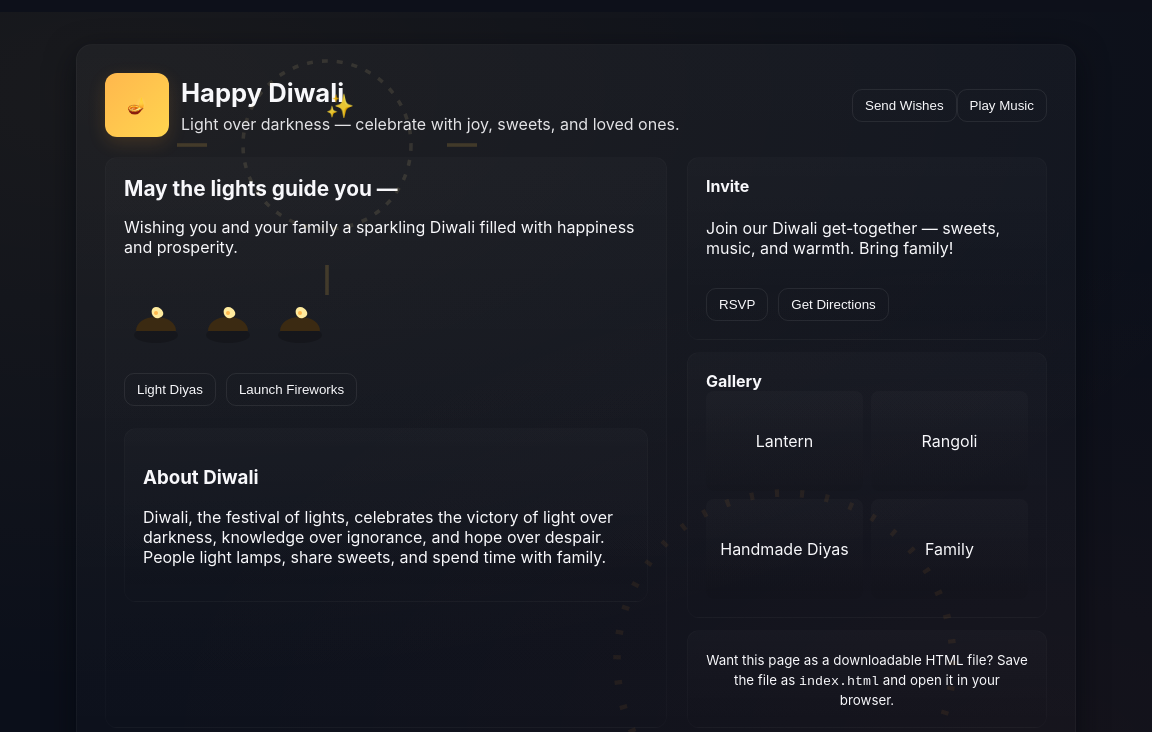
🎇 DiwaliPage Component Tests › shows "No music file found" toast when no src is available
Step 1. Click the button "Play Music" → [1002, 105], box x1=957 y1=88 x2=1047 y2=122
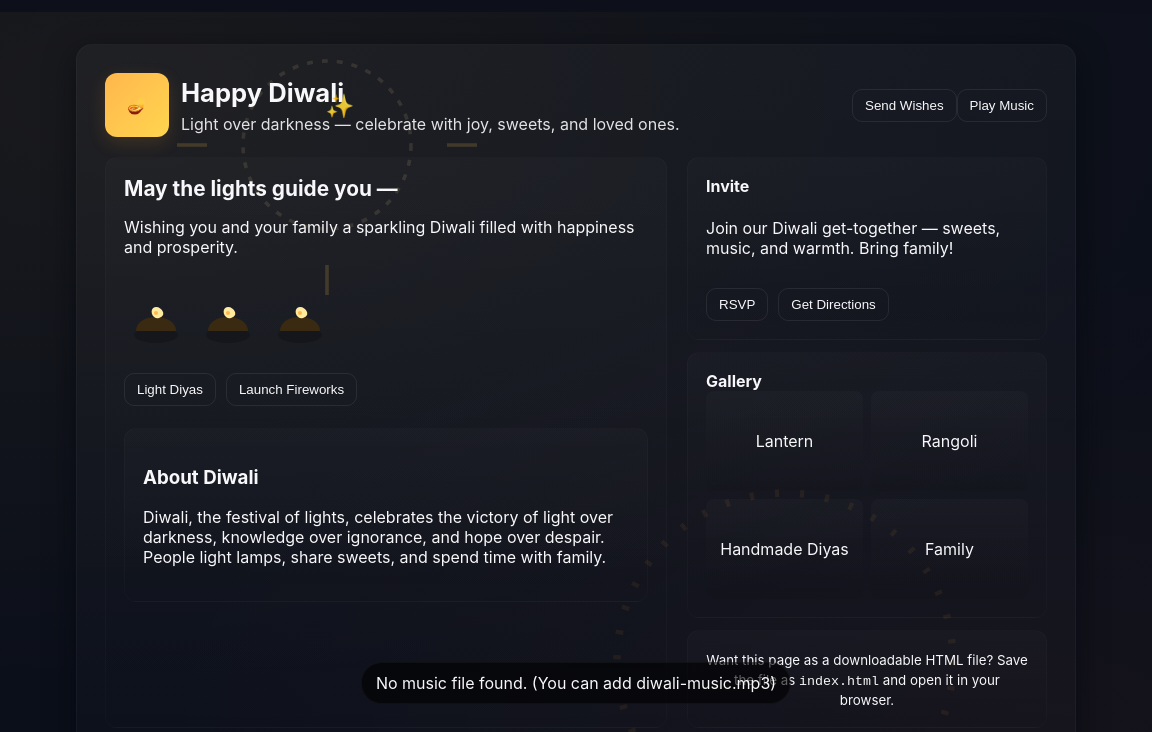
Result: the text "No music file found. (You can add diwali-music.mp3)" is shown at x1=361 y1=662 x2=791 y2=704
